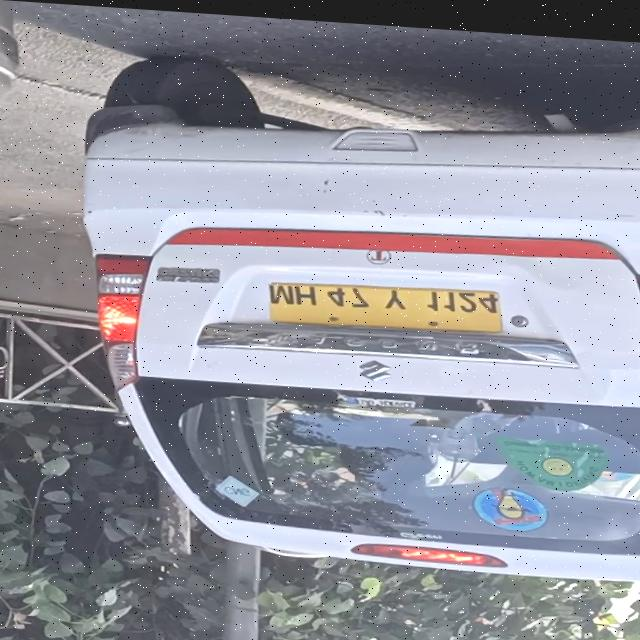plate: (265, 268, 510, 336)
